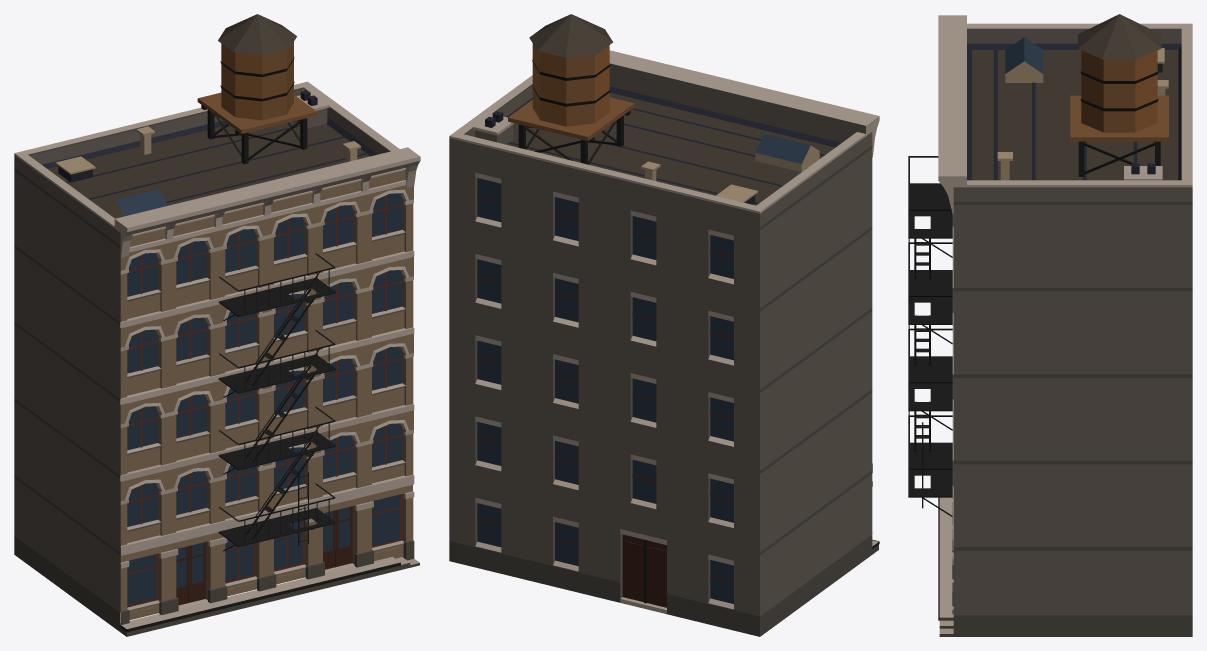
The model's file is loft.glb.
3 renders of one model, left to right at view 1: azimuth 30°, elevation 25°; view 2: azimuth 150°, elevation 25°; view 3: azimuth 270°, elevation 25°, orthographic. The views are drawn at different scales.
Parts seen in each view (by area): view 1: loft-body; view 2: loft-body; view 3: loft-body.
Boxes of the visible parts, x1,y1,x2,y2 form: loft-body: (14,14,420,636); loft-body: (449,14,879,636); loft-body: (908,14,1192,636).
Bounding box in the file's own units: 12 × 20.06 × 8.95.
